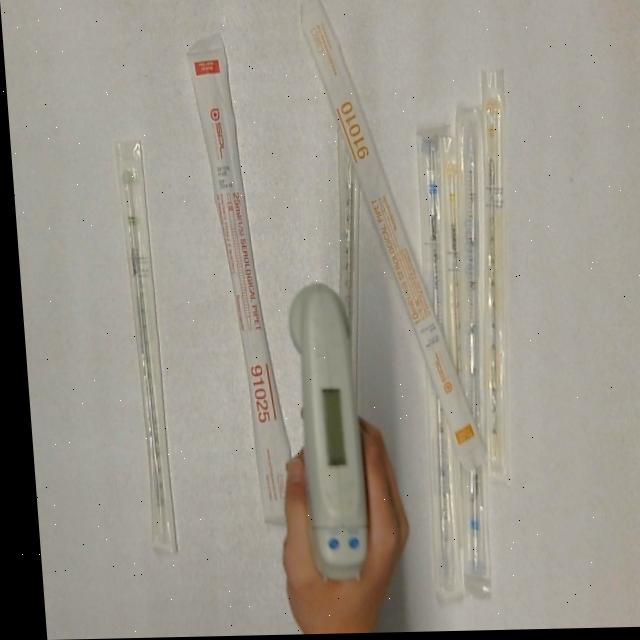Pipette Controller: (271, 279, 370, 592)
Serelogical Pipet 1 mL: (454, 70, 532, 486), (425, 137, 477, 389)
Serelogical Pipet 10 mL: (296, 0, 486, 480)
Serelogical Pipet 2 mL: (114, 139, 172, 558)
Serelogical Pipet 25 mL: (184, 31, 296, 531)
Serelogical Pipet 5 mL: (427, 105, 510, 585), (396, 121, 471, 604)
